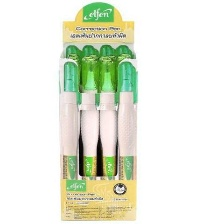book: (55, 0, 139, 222)
correction_fluid: (112, 58, 136, 204), (77, 54, 100, 203), (96, 54, 118, 204), (60, 56, 82, 201)
